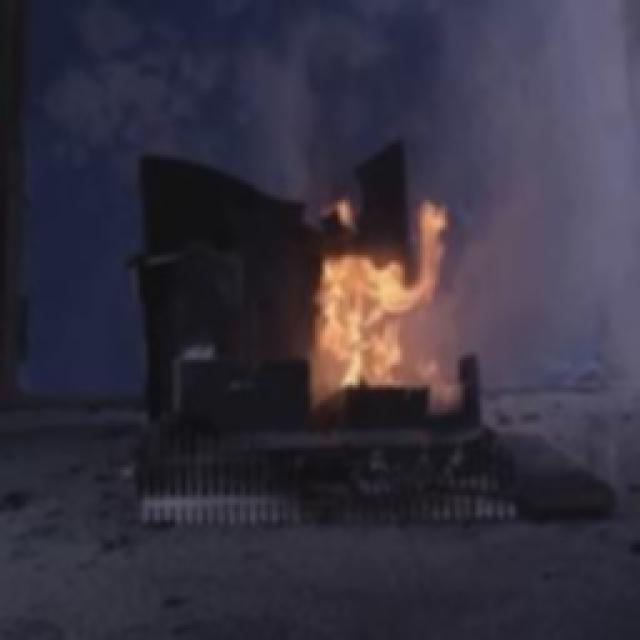fire: (277, 184, 465, 406)
